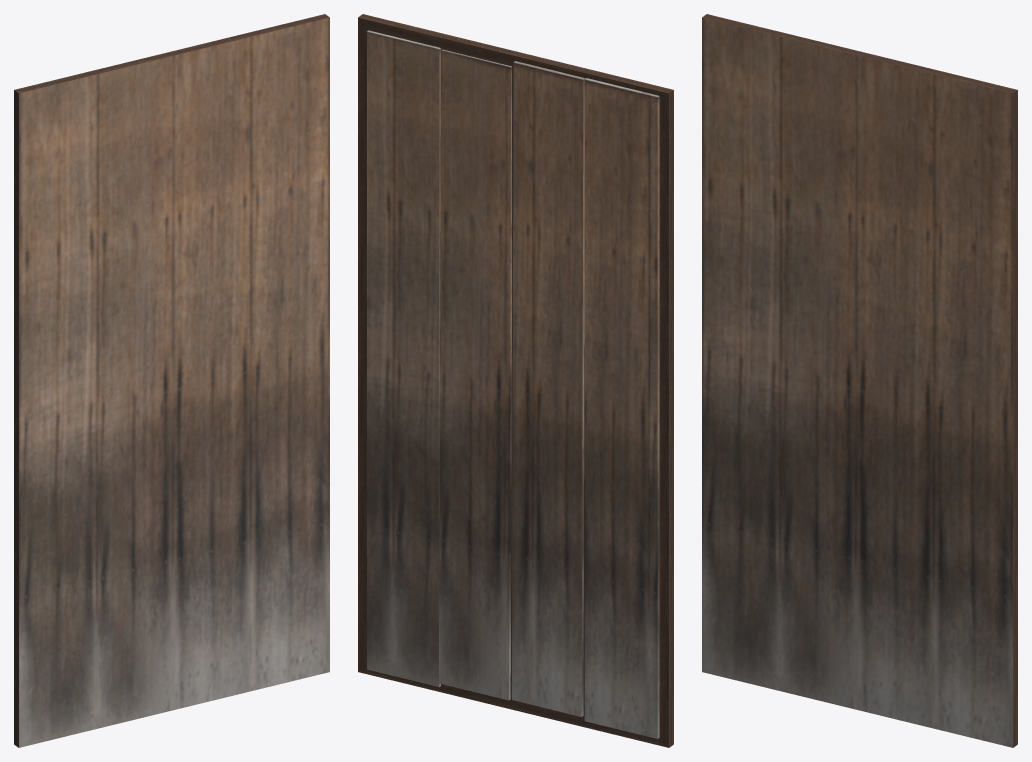
The model's file is amado_d1.fbx.
The picture shows the model from 3 angles, left to right: view 1: azimuth 30°, elevation 25°; view 2: azimuth 150°, elevation 25°; view 3: azimuth 330°, elevation 25°; orthographic projection.
Parts seen in each view (by area): view 1: amado_d1; view 2: amado_d1; view 3: amado_d1.
Part boxes in pixels (box(x1,y1,x2,y2)): amado_d1: box(14, 14, 329, 747); amado_d1: box(358, 14, 673, 747); amado_d1: box(702, 14, 1017, 747).
Bounding box in the file's own units: 110 × 221 × 4.83.
